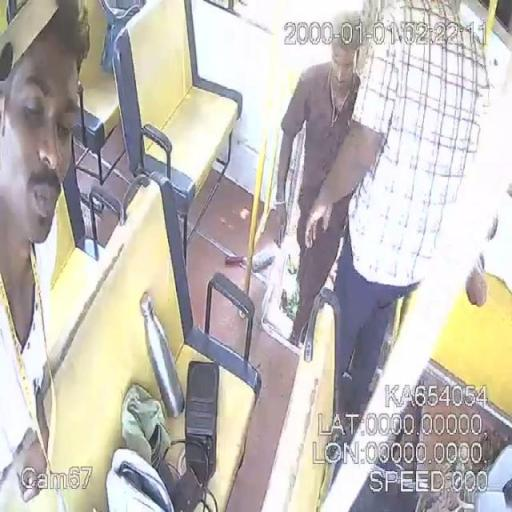persona: (297, 1, 500, 506), (0, 0, 93, 511), (272, 10, 366, 350)
